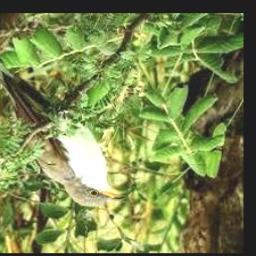Cuckoo: (0, 30, 127, 206)
